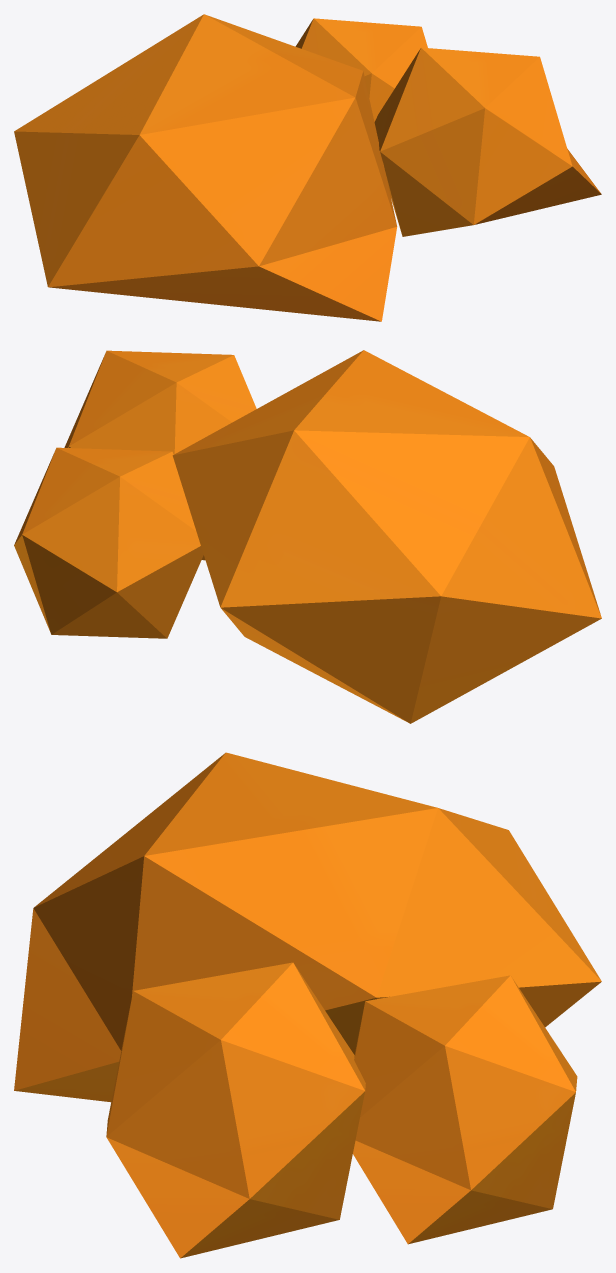
File: Small_Rock_1.fbx
The picture shows the model from 3 angles, top to bottom: view 1: azimuth 30°, elevation 25°; view 2: azimuth 150°, elevation 25°; view 3: azimuth 270°, elevation 25°; orthographic projection. The views are drawn at different scales.
Parts seen in each view (by area): view 1: Small_Rock_1; view 2: Small_Rock_1; view 3: Small_Rock_1.
Boxes of the visible parts, x1,y1,x2,y2 form: Small_Rock_1: [14, 14, 601, 321]; Small_Rock_1: [14, 350, 601, 723]; Small_Rock_1: [14, 752, 601, 1258].
Size of the model in its own units: 0.938 by 0.3915 by 0.671.
